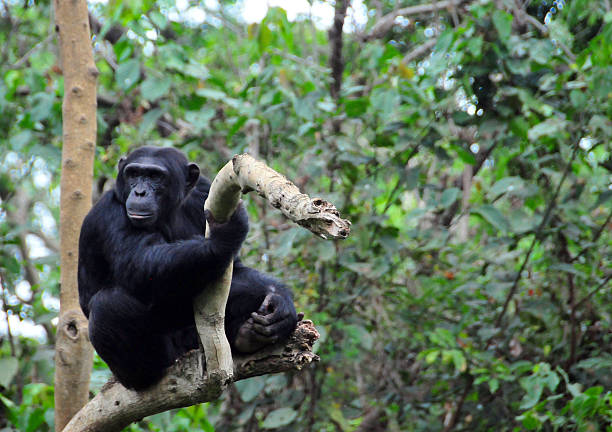chimpanzee: (100, 137, 205, 231)
